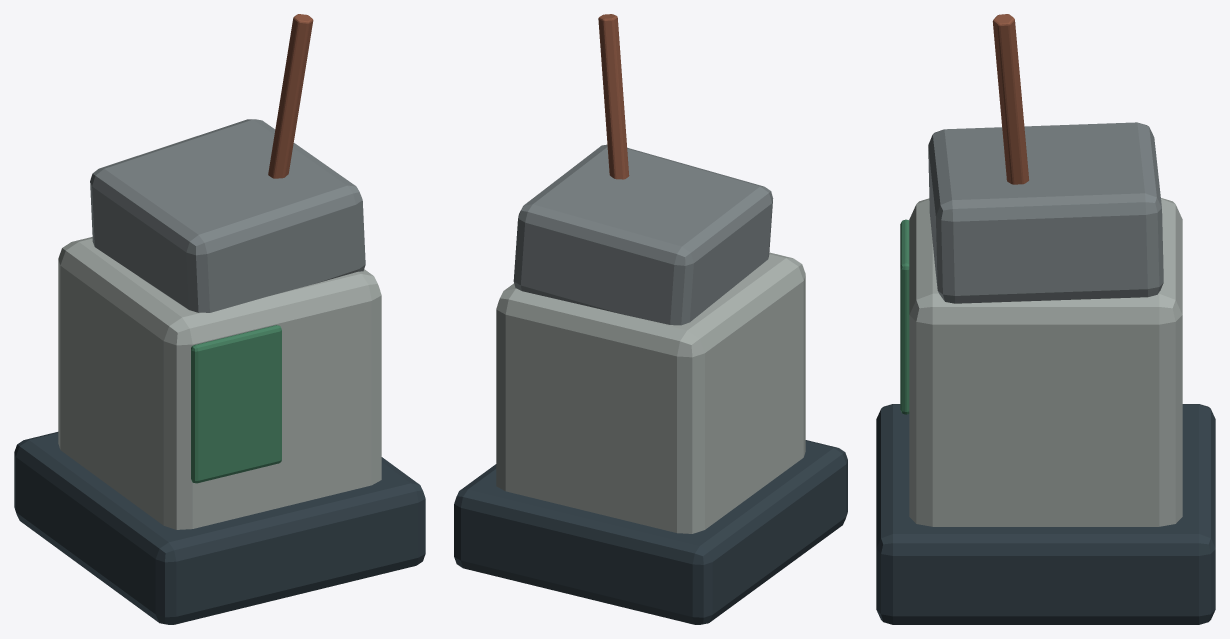
The model's file is Broken-Pillar.glb.
3 views of the same model, side by side, from view 1: azimuth 30°, elevation 25°; view 2: azimuth 150°, elevation 25°; view 3: azimuth 270°, elevation 25° (orthographic). The views are drawn at different scales.
Visible parts, largest first — view 1: BrokenPillar_Base, BrokenPillar_Foot, BrokenPillar_Fracture, BrokenPillar_Moss, BrokenPillar_Rebar; view 2: BrokenPillar_Base, BrokenPillar_Foot, BrokenPillar_Fracture, BrokenPillar_Rebar; view 3: BrokenPillar_Base, BrokenPillar_Foot, BrokenPillar_Fracture, BrokenPillar_Rebar, BrokenPillar_Moss.
Boxes of the visible parts, x1=… form: BrokenPillar_Base: x1=58, y1=237, x2=381, y2=529; BrokenPillar_Foot: x1=14, y1=432, x2=425, y2=624; BrokenPillar_Fracture: x1=90, y1=119, x2=365, y2=312; BrokenPillar_Moss: x1=191, y1=325, x2=281, y2=483; BrokenPillar_Rebar: x1=268, y1=14, x2=313, y2=178; BrokenPillar_Base: x1=496, y1=252, x2=805, y2=533; BrokenPillar_Foot: x1=454, y1=440, x2=847, y2=624; BrokenPillar_Fracture: x1=513, y1=144, x2=773, y2=325; BrokenPillar_Rebar: x1=598, y1=14, x2=629, y2=179; BrokenPillar_Base: x1=909, y1=198, x2=1182, y2=526; BrokenPillar_Foot: x1=876, y1=404, x2=1215, y2=624; BrokenPillar_Fracture: x1=928, y1=122, x2=1163, y2=303; BrokenPillar_Rebar: x1=992, y1=14, x2=1028, y2=184; BrokenPillar_Moss: x1=900, y1=219, x2=909, y2=414.
Size of the model in its own units: 1.02 by 1.91 by 1.02.
